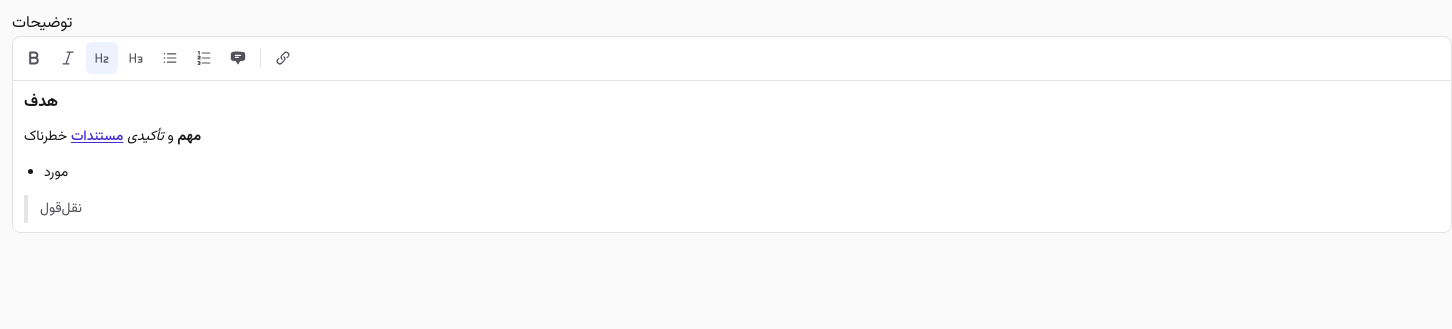
Test: RichTextEditor › rejects non-http(s) links
Step 1. Click the button named "افزودن یا ویرایش لینک" → [283, 58], box [267,42,299,74]
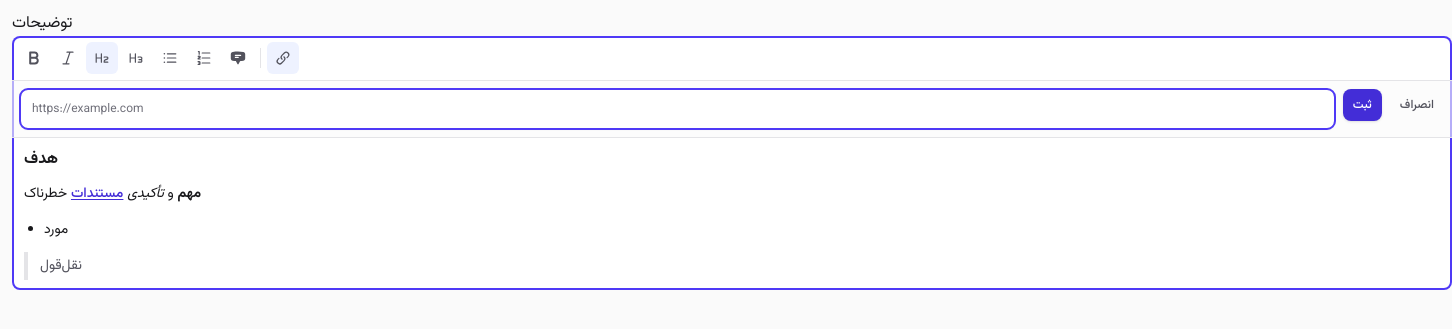
Step 2. Type "javascript:alert(1)" into the field named "نشانی لینک" → [677, 109], box [20,89,1335,129]
Then press Enter
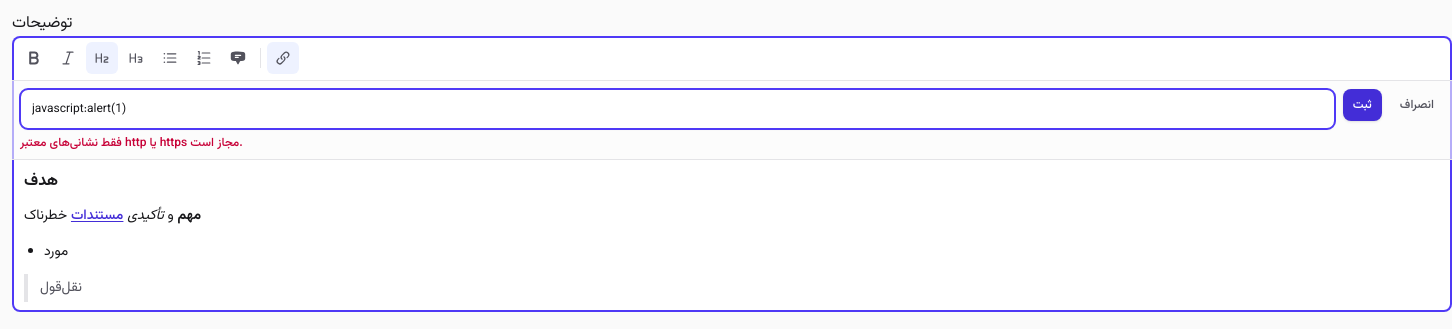
Now the message reads "فقط نشانی‌های معتبر http یا https مجاز است.", box [20,134,243,152]
